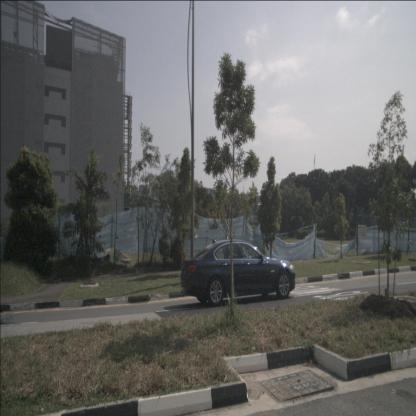vehicle-car: (180, 239, 296, 306)
